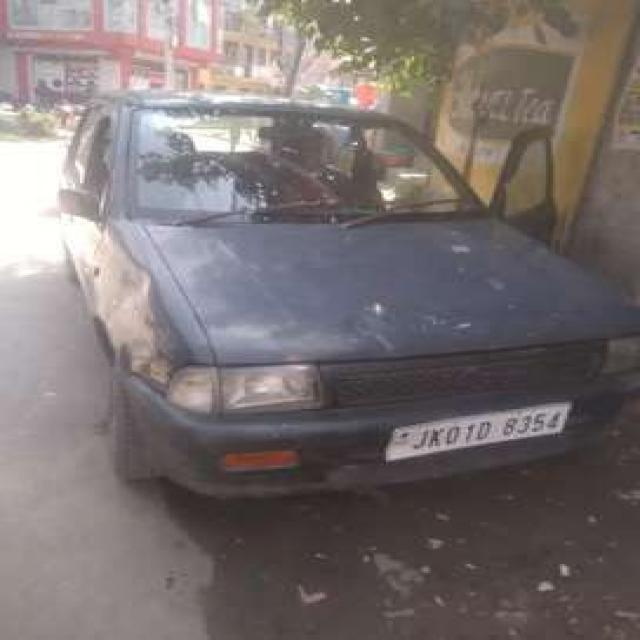Plate: (383, 400, 571, 461)
